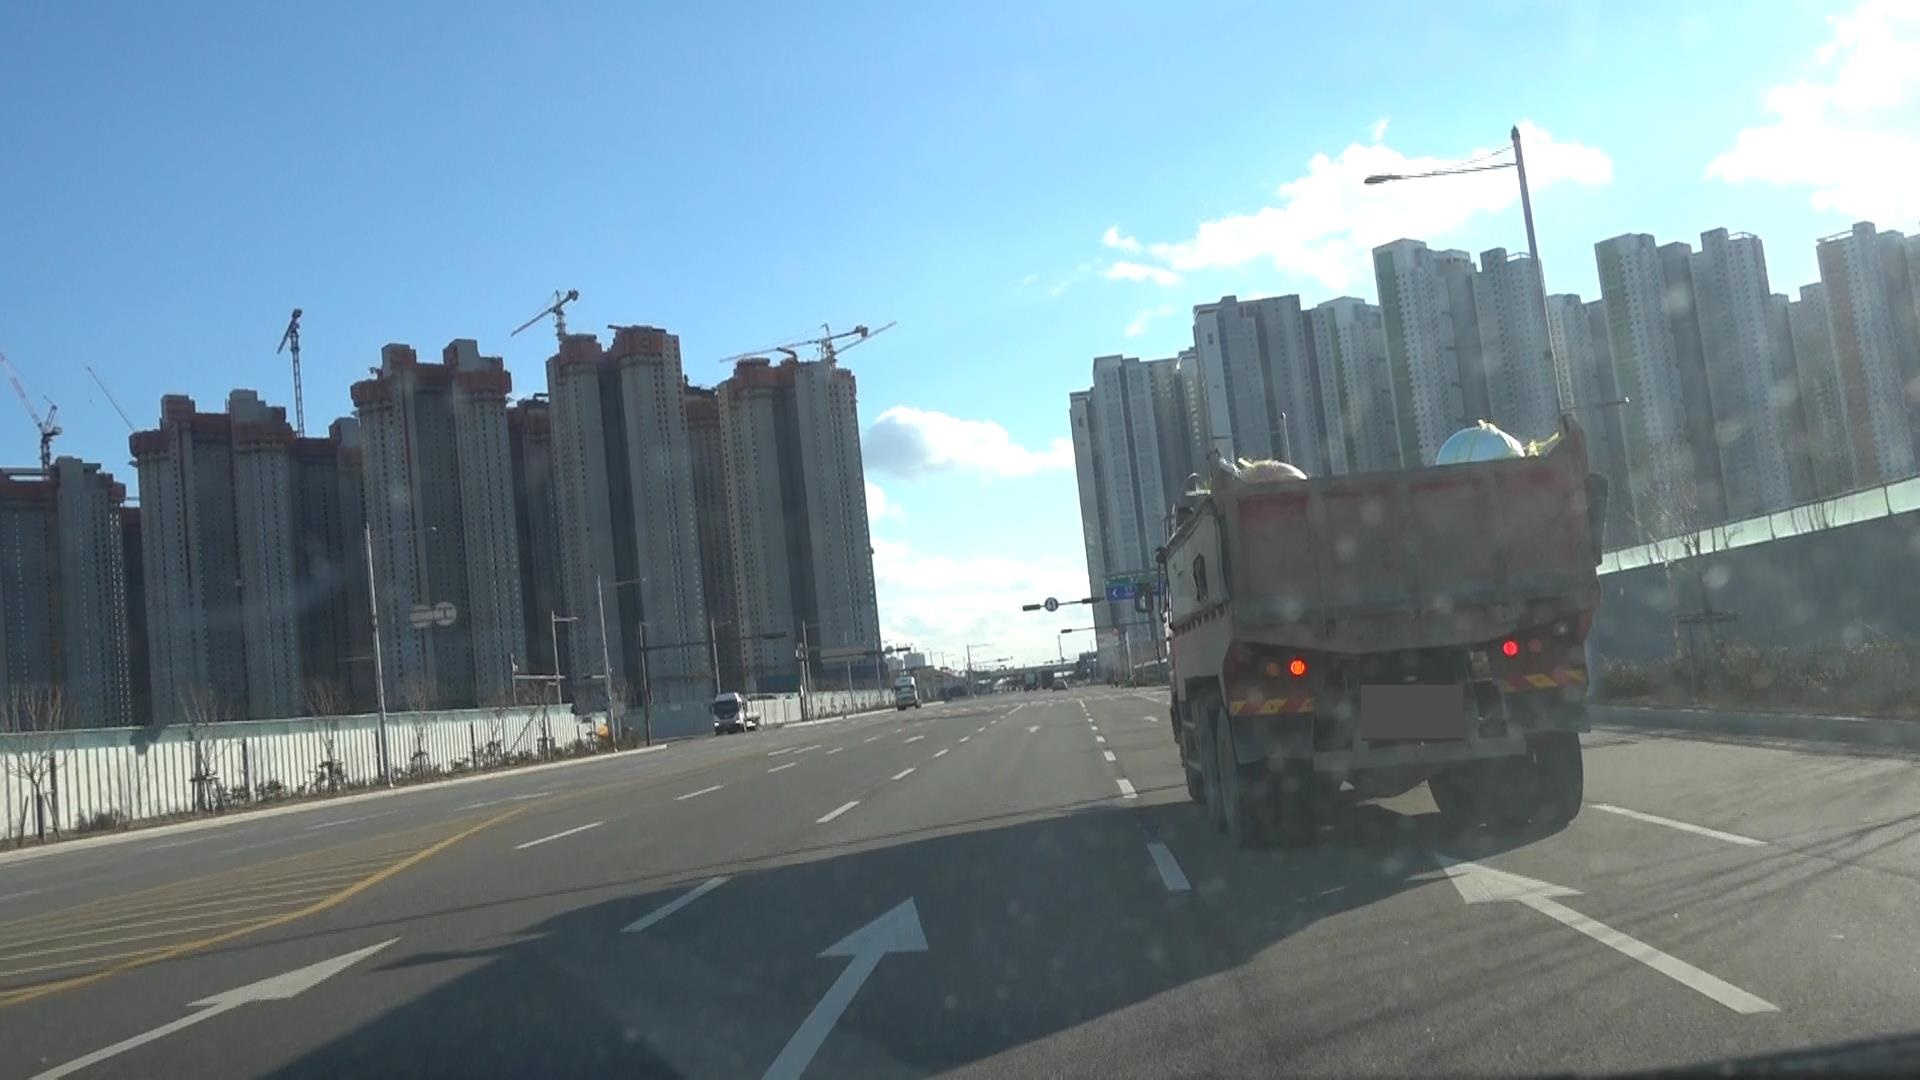불법차량: (1132, 412, 1610, 849)
